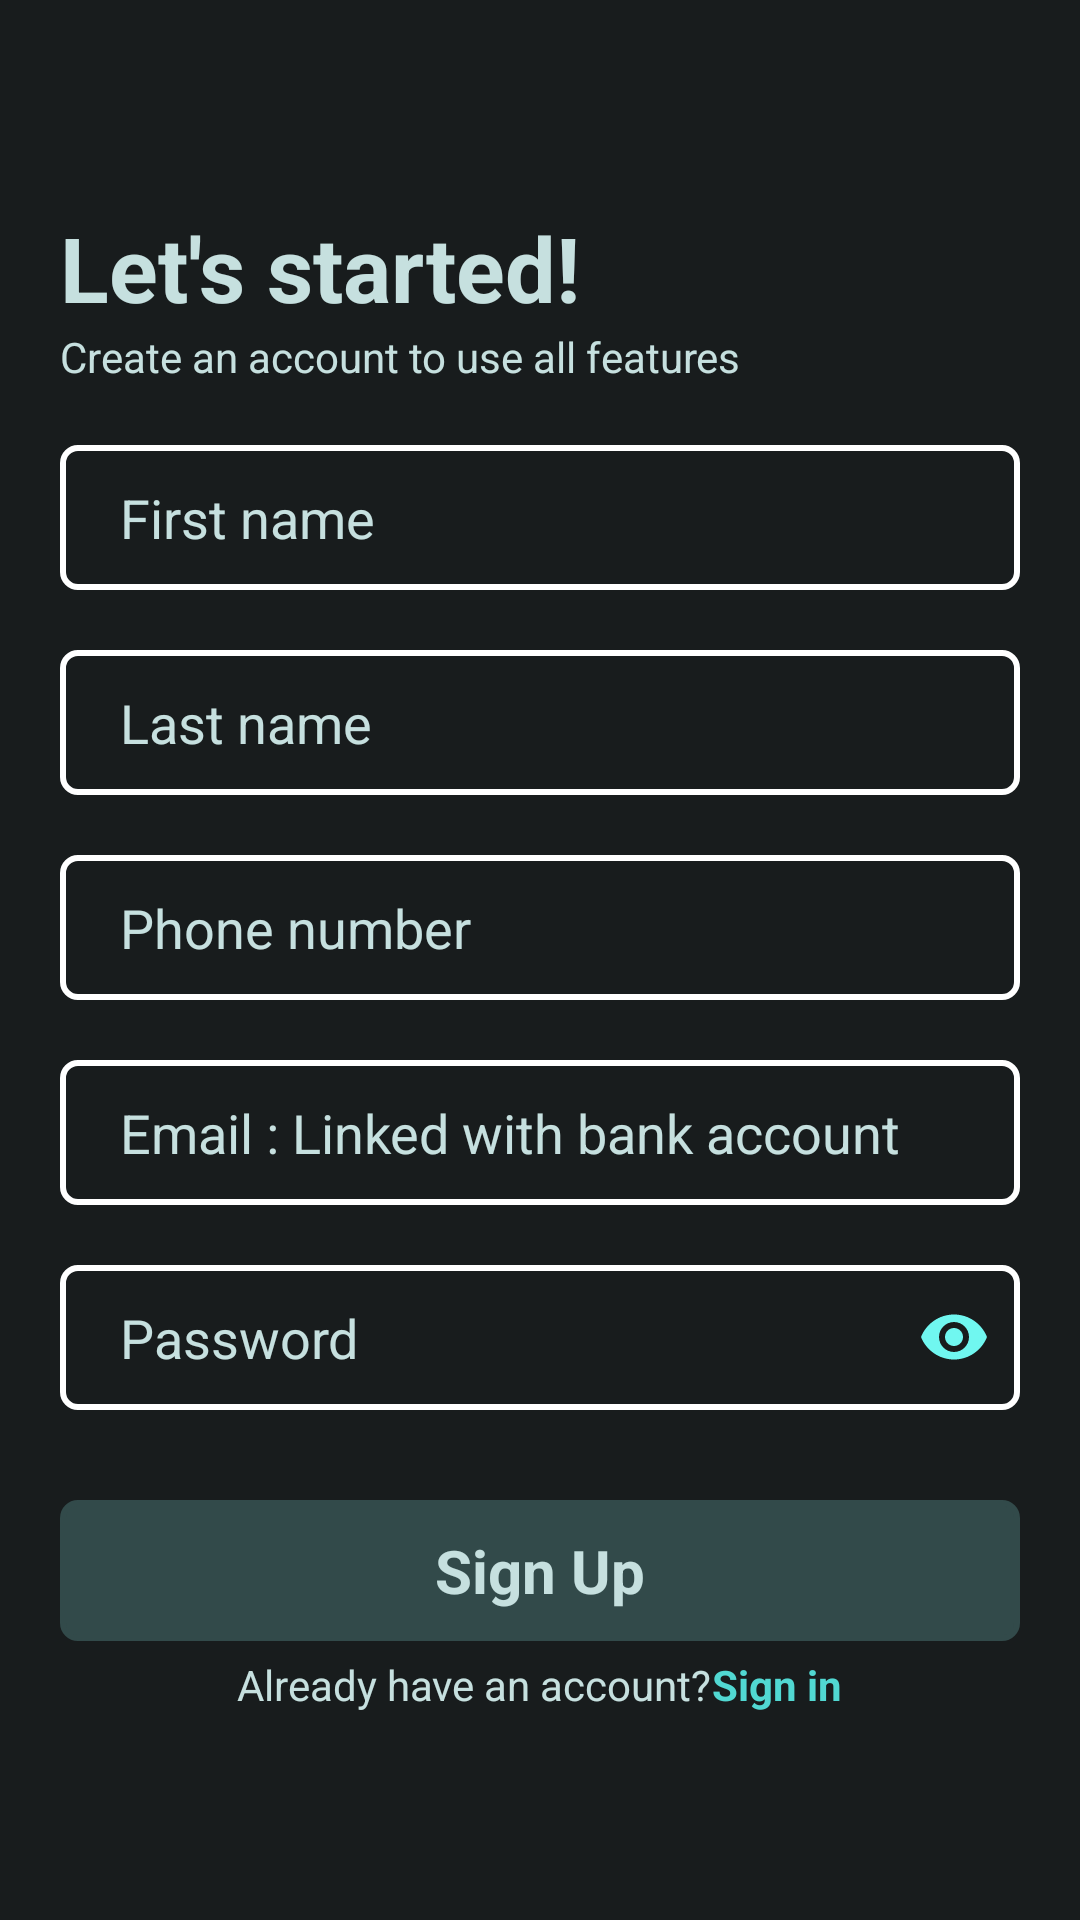

Where to tap for icons on this 1080 x 1920 app screen, as [x,y]:
eye: [954,1337]
